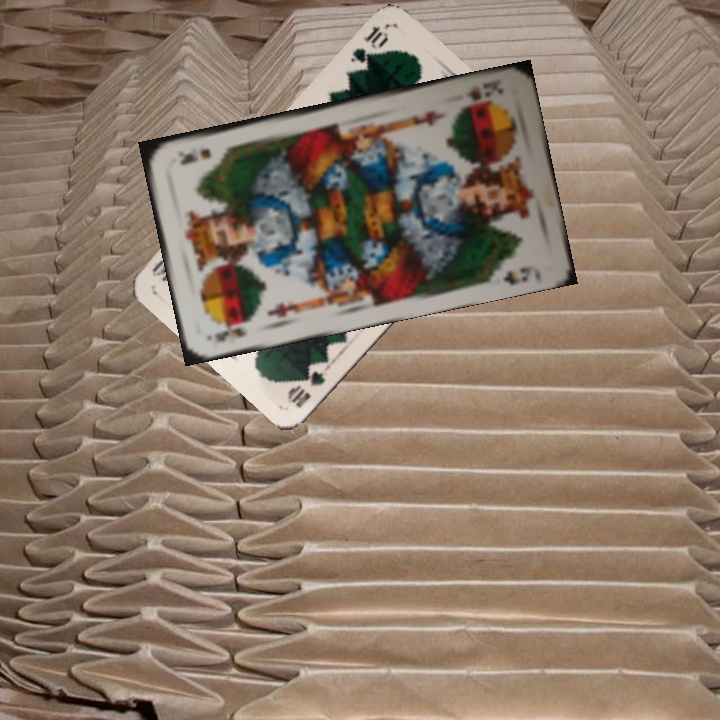G10: (346, 21, 392, 67), (283, 366, 328, 411)
SK: (461, 75, 507, 104), (210, 316, 255, 344)
